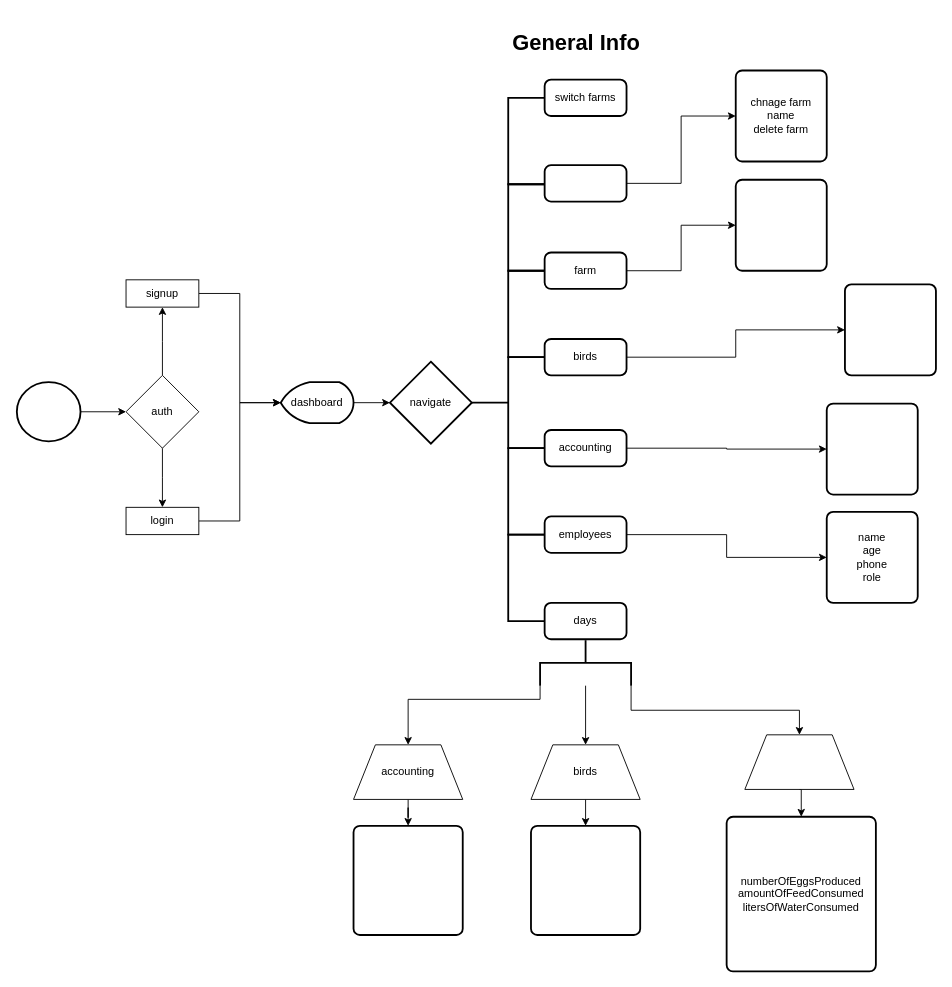
Some shapes in this 952 by 987 pixel diagram are drawn without their labels. Each missing label, with the centre of its shape:
"deaths newlySickBirds newlyRecoveredBirds" belongs at (585,879).
"icome expenditure profit loss" belongs at (871,448).
"landing page" belongs at (48,411).
"location number of buildings" belongs at (780,224).
"numberOfBirdsSold numberOfEggsSold drug expenses feed expenses water expenses" belongs at (407,879).
"production" belongs at (799,761).
"settings" belongs at (585,183).
"total numbber deaths since start eggs produces sold" belongs at (890,329).
